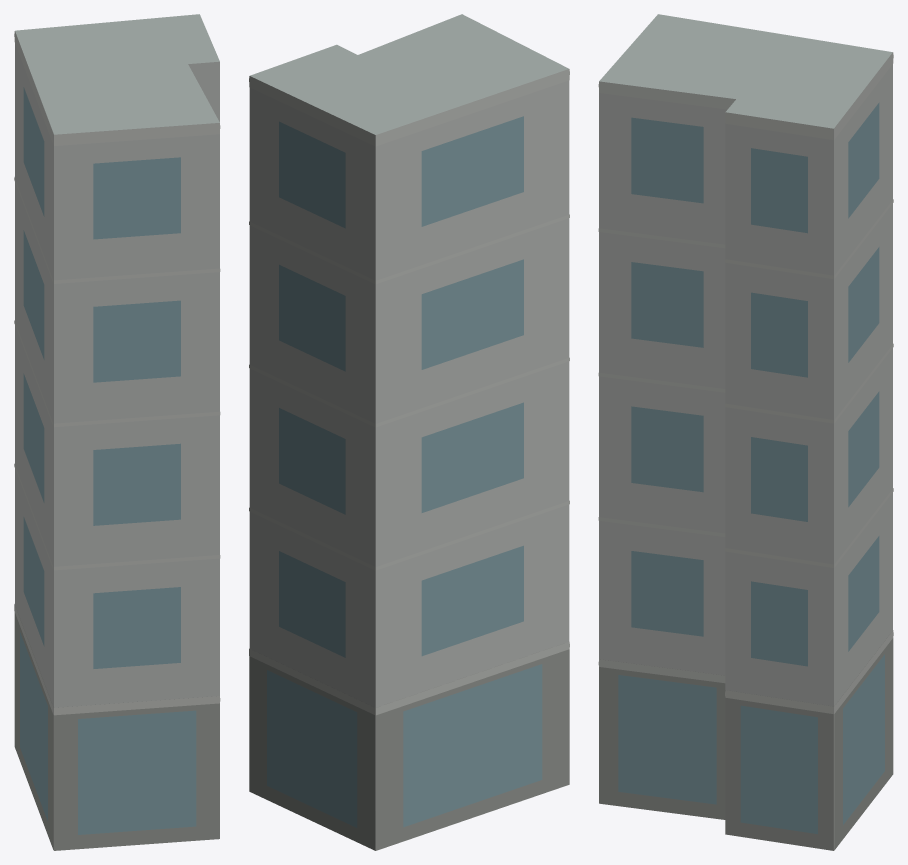
The model's file is survey-upis-32818605.glb.
3 views of the same model, side by side, from view 1: azimuth 30°, elevation 25°; view 2: azimuth 150°, elevation 25°; view 3: azimuth 270°, elevation 25° (orthographic).
Parts seen in each view (by area): view 1: survey-upis-32818605.tmp; view 2: survey-upis-32818605.tmp; view 3: survey-upis-32818605.tmp.
Boxes of the visible parts, x1,y1,x2,y2 form: survey-upis-32818605.tmp: (14, 14, 220, 850); survey-upis-32818605.tmp: (249, 14, 569, 850); survey-upis-32818605.tmp: (598, 14, 893, 850).
Size of the model in its own units: 5.22 by 15.25 by 5.65.
